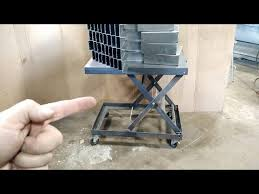Scissor Lift: (84, 50, 191, 151)
